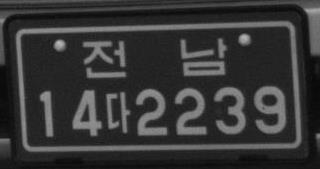1: (35, 89, 60, 137)
2: (134, 87, 168, 137), (174, 86, 208, 136)
3: (213, 84, 248, 136)
4: (70, 88, 102, 137)
9: (252, 84, 287, 135)
다: (104, 90, 132, 133)
전남_D: (81, 37, 229, 81)
